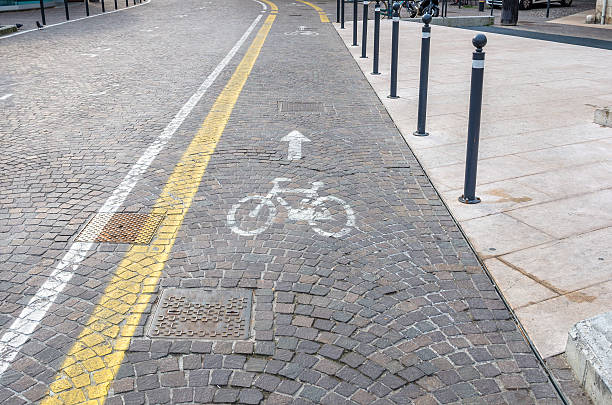bollard: (458, 30, 493, 209), (415, 14, 432, 138), (387, 3, 405, 105)
